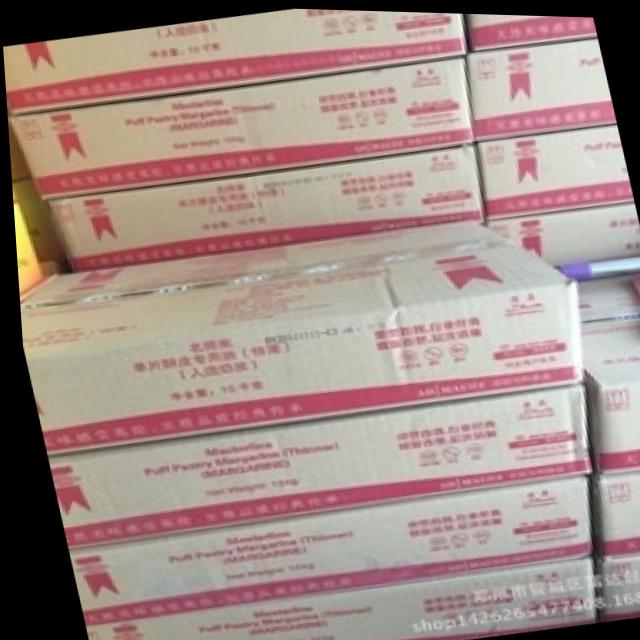box: (16, 218, 578, 456), (42, 382, 585, 548), (61, 472, 589, 626), (9, 54, 468, 192), (39, 143, 478, 271), (2, 7, 466, 114), (77, 556, 587, 640), (461, 35, 613, 140), (472, 121, 629, 219), (577, 311, 640, 470), (484, 199, 639, 262), (466, 11, 594, 51), (584, 467, 640, 557), (576, 269, 640, 319), (590, 552, 640, 614)
